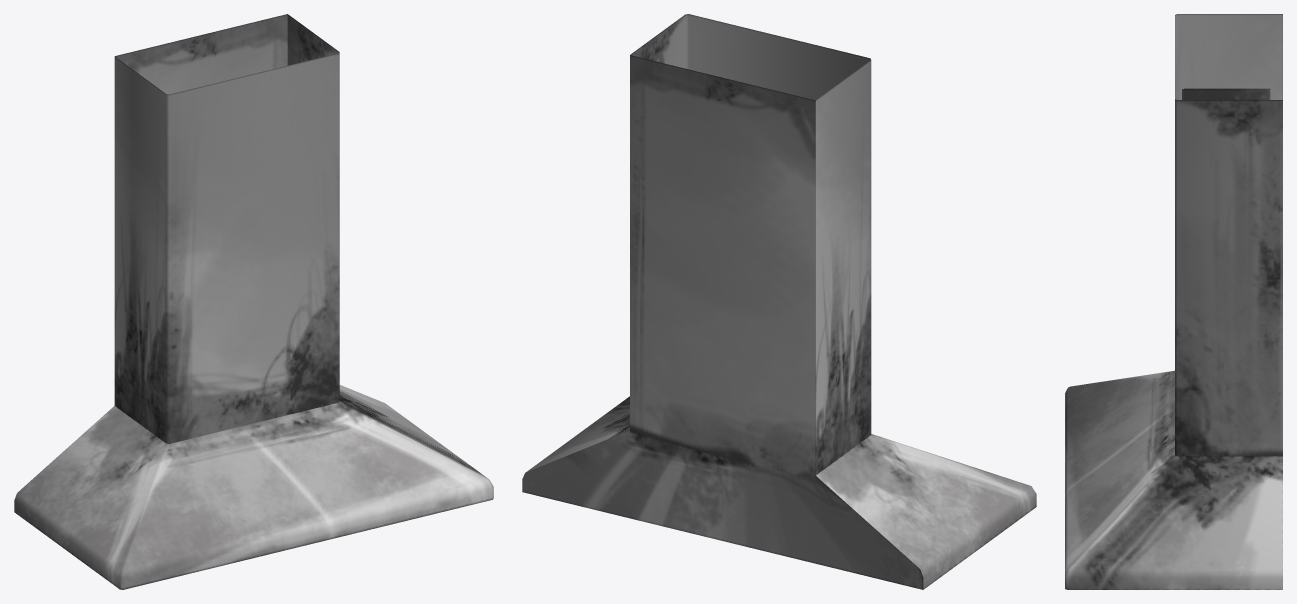
File: Hood_Asset.fbx
3 renders of one model, left to right at view 1: azimuth 30°, elevation 25°; view 2: azimuth 150°, elevation 25°; view 3: azimuth 270°, elevation 25°, orthographic. The views are drawn at different scales.
Parts seen in each view (by area): view 1: HoodVent, Hood; view 2: HoodVent, Hood; view 3: HoodVent, Hood.
Boxes of the visible parts, left/top/right/bottom form: HoodVent: left=114, top=14, right=339, bottom=443; Hood: left=14, top=385, right=493, bottom=589; HoodVent: left=630, top=14, right=871, bottom=483; Hood: left=522, top=396, right=1036, bottom=589; HoodVent: left=1175, top=14, right=1282, bottom=456; Hood: left=1065, top=370, right=1282, bottom=589.
Bounding box in the file's own units: 77.59 × 38.43 × 85.64.
Materials: 1 (1 with a texture image).
